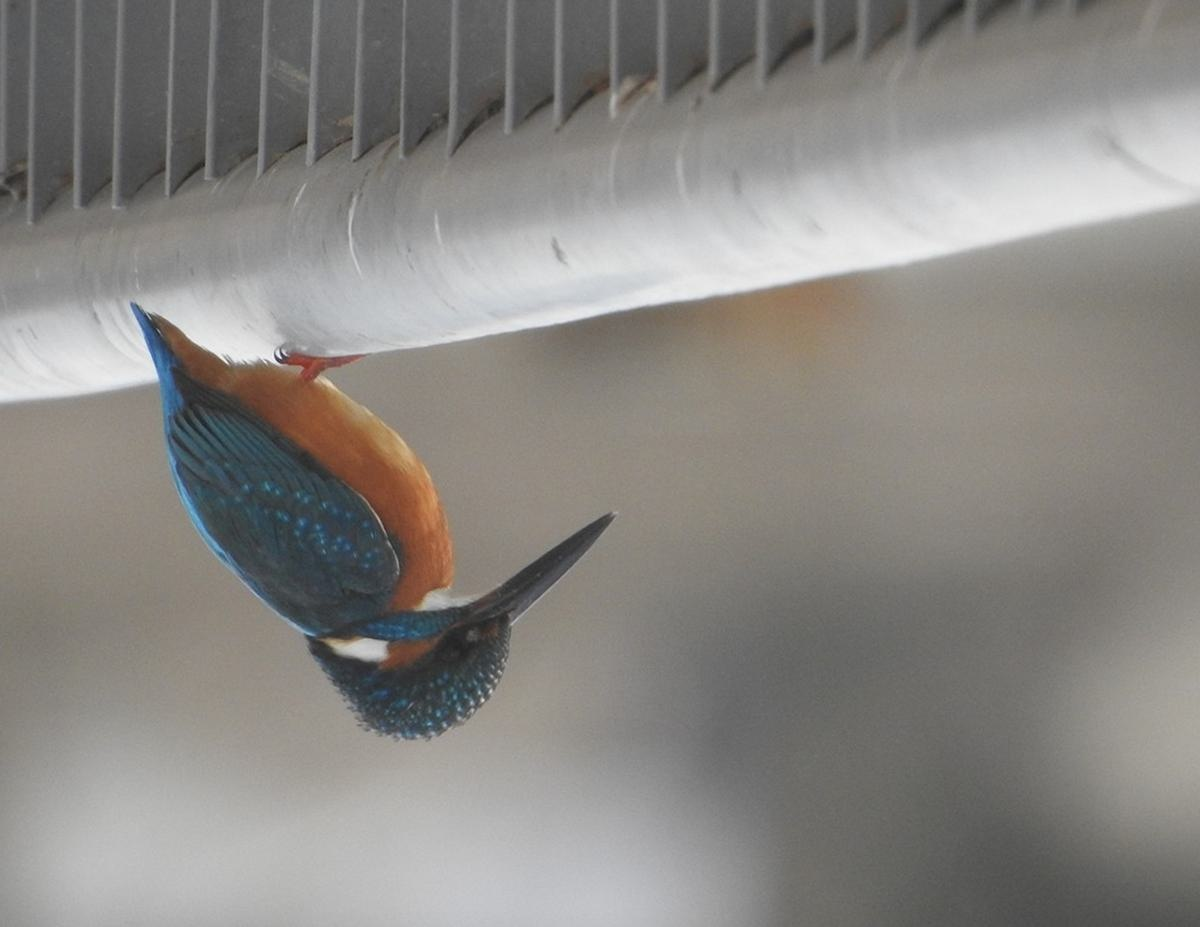kingfisher: (132, 271, 619, 770)
